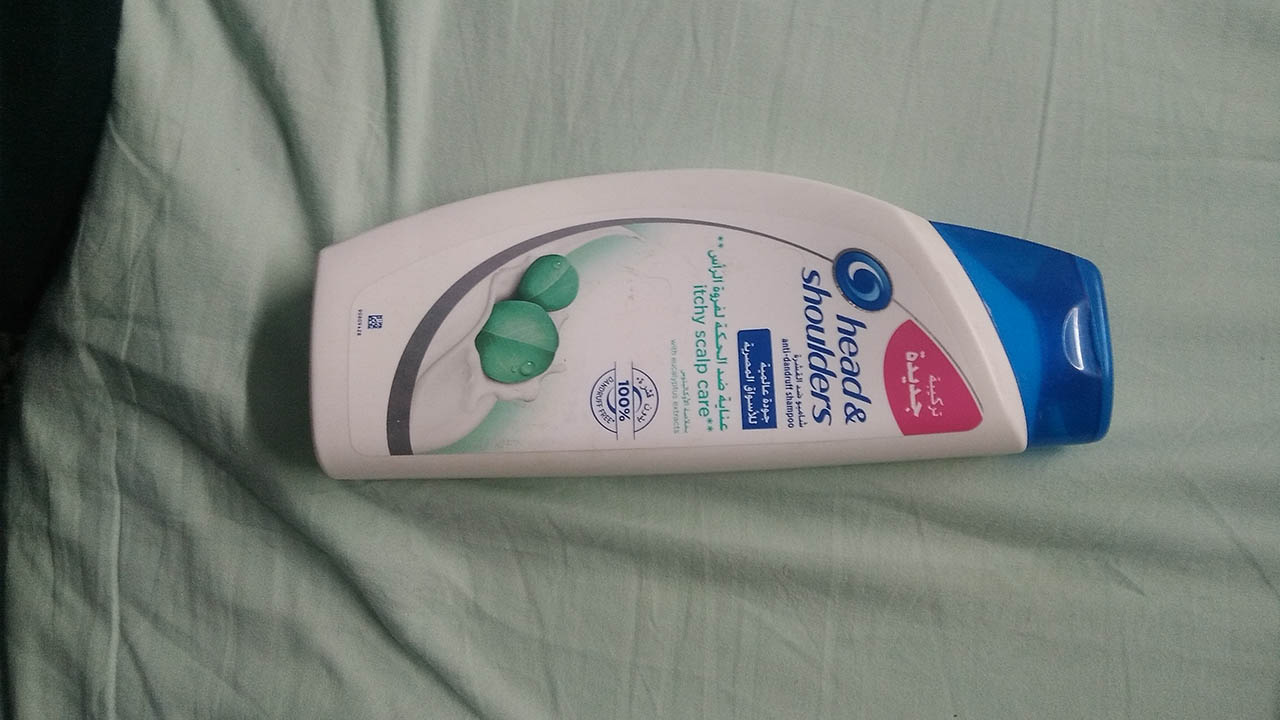shampoo-green 4.5$: (299, 168, 1131, 482)
